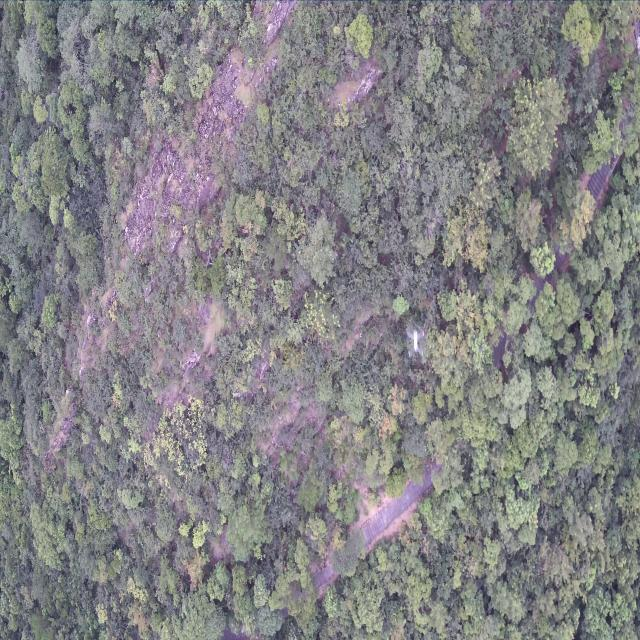UAV: (406, 329, 426, 360)
